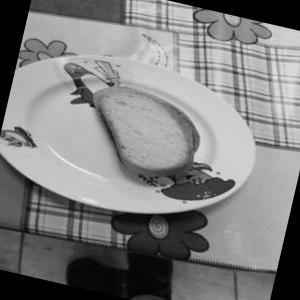bread: (72, 61, 212, 200)
